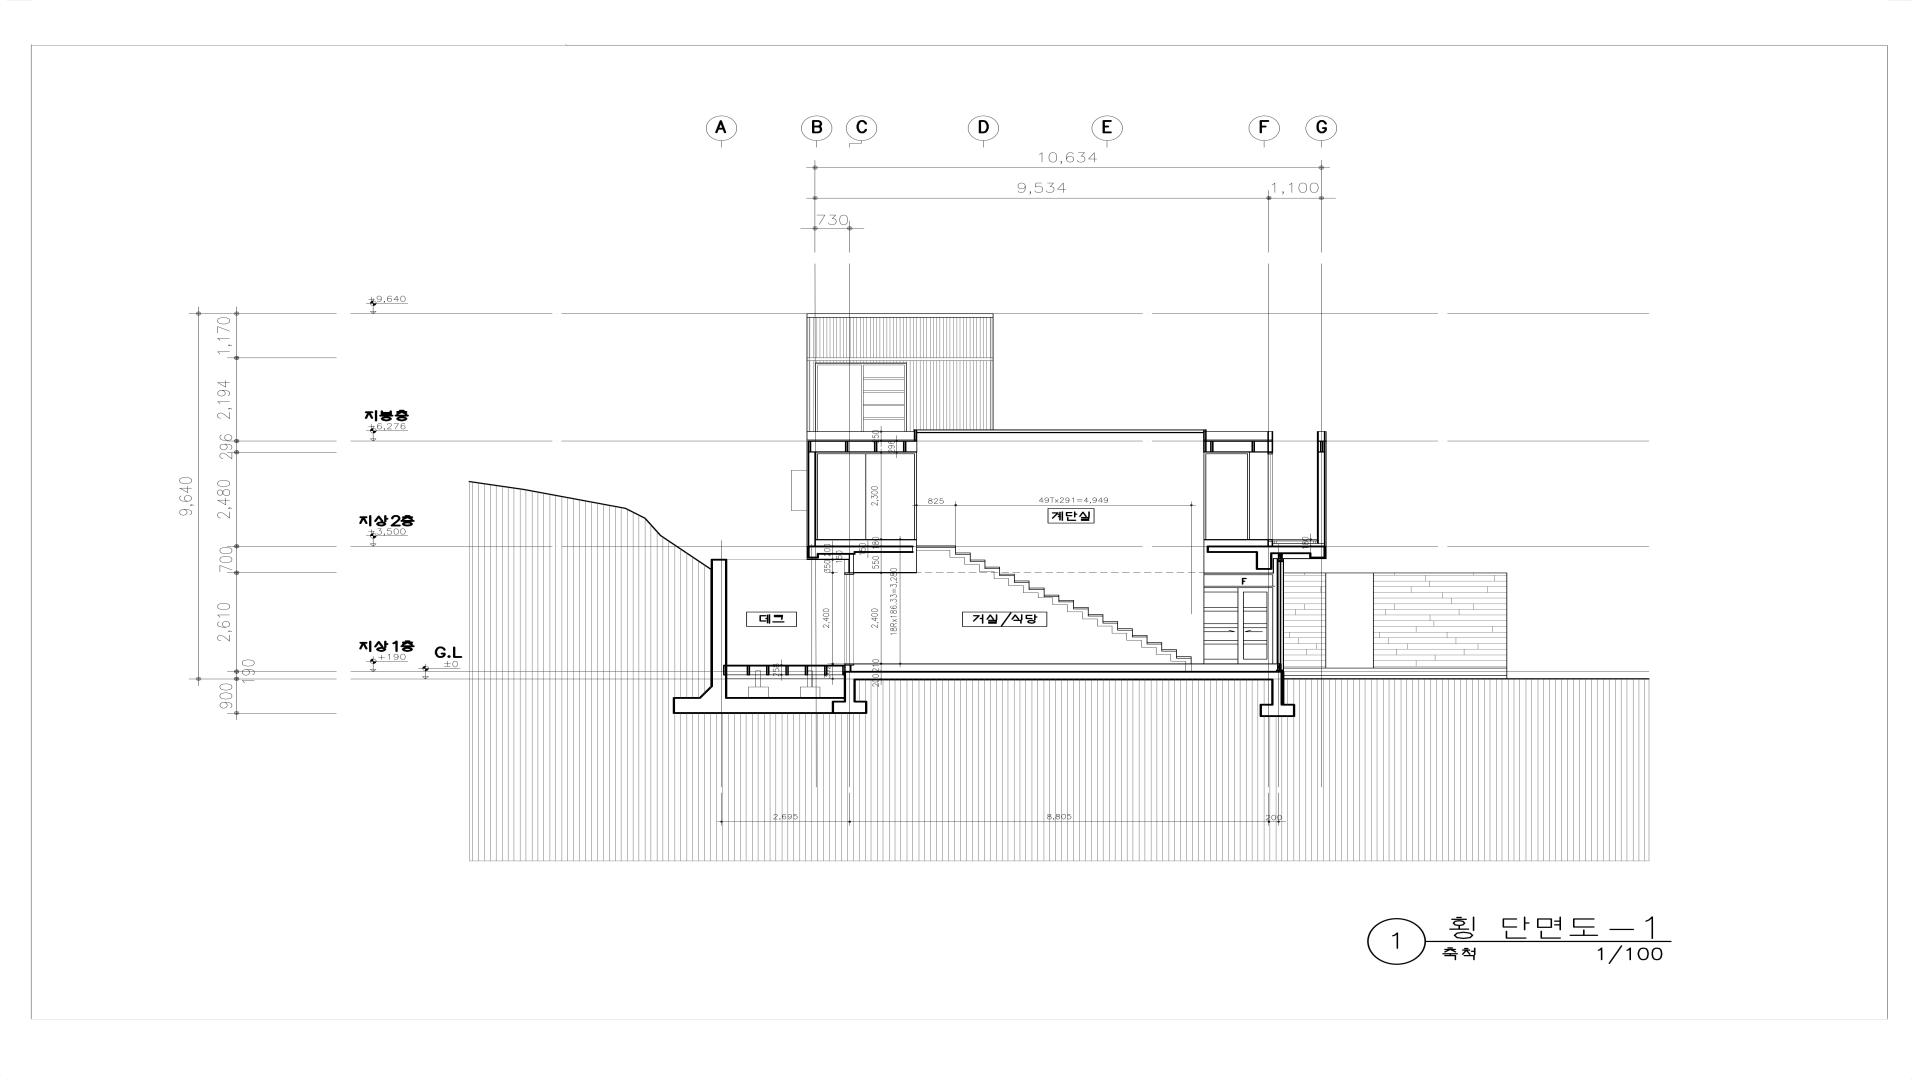door: (1204, 587, 1274, 663)
wall: (844, 671, 1271, 680), (673, 698, 844, 713), (711, 559, 728, 686), (808, 440, 918, 452), (1317, 431, 1327, 546), (807, 431, 914, 440), (1207, 440, 1274, 452), (918, 430, 1203, 433), (808, 452, 816, 546), (807, 357, 993, 361), (807, 314, 993, 318), (807, 361, 816, 431), (728, 674, 844, 679), (832, 700, 868, 713), (1259, 704, 1295, 717), (1271, 671, 1284, 704), (1255, 546, 1273, 570), (855, 546, 913, 553), (699, 686, 728, 698), (819, 546, 855, 555), (1207, 546, 1255, 553), (807, 318, 815, 357), (1273, 546, 1309, 554), (844, 680, 856, 700), (1309, 546, 1327, 559), (748, 687, 769, 698), (800, 687, 820, 698), (990, 361, 993, 430), (807, 546, 819, 558), (848, 555, 855, 572), (990, 318, 993, 357), (1203, 430, 1207, 452), (1267, 431, 1274, 440), (1267, 539, 1274, 546), (914, 430, 918, 440), (844, 666, 852, 671), (807, 679, 812, 687), (756, 679, 761, 687), (1278, 554, 1283, 558), (1267, 452, 1273, 455)
window: (1203, 452, 1250, 539), (844, 572, 855, 666), (1276, 558, 1284, 671), (1267, 455, 1273, 539)
